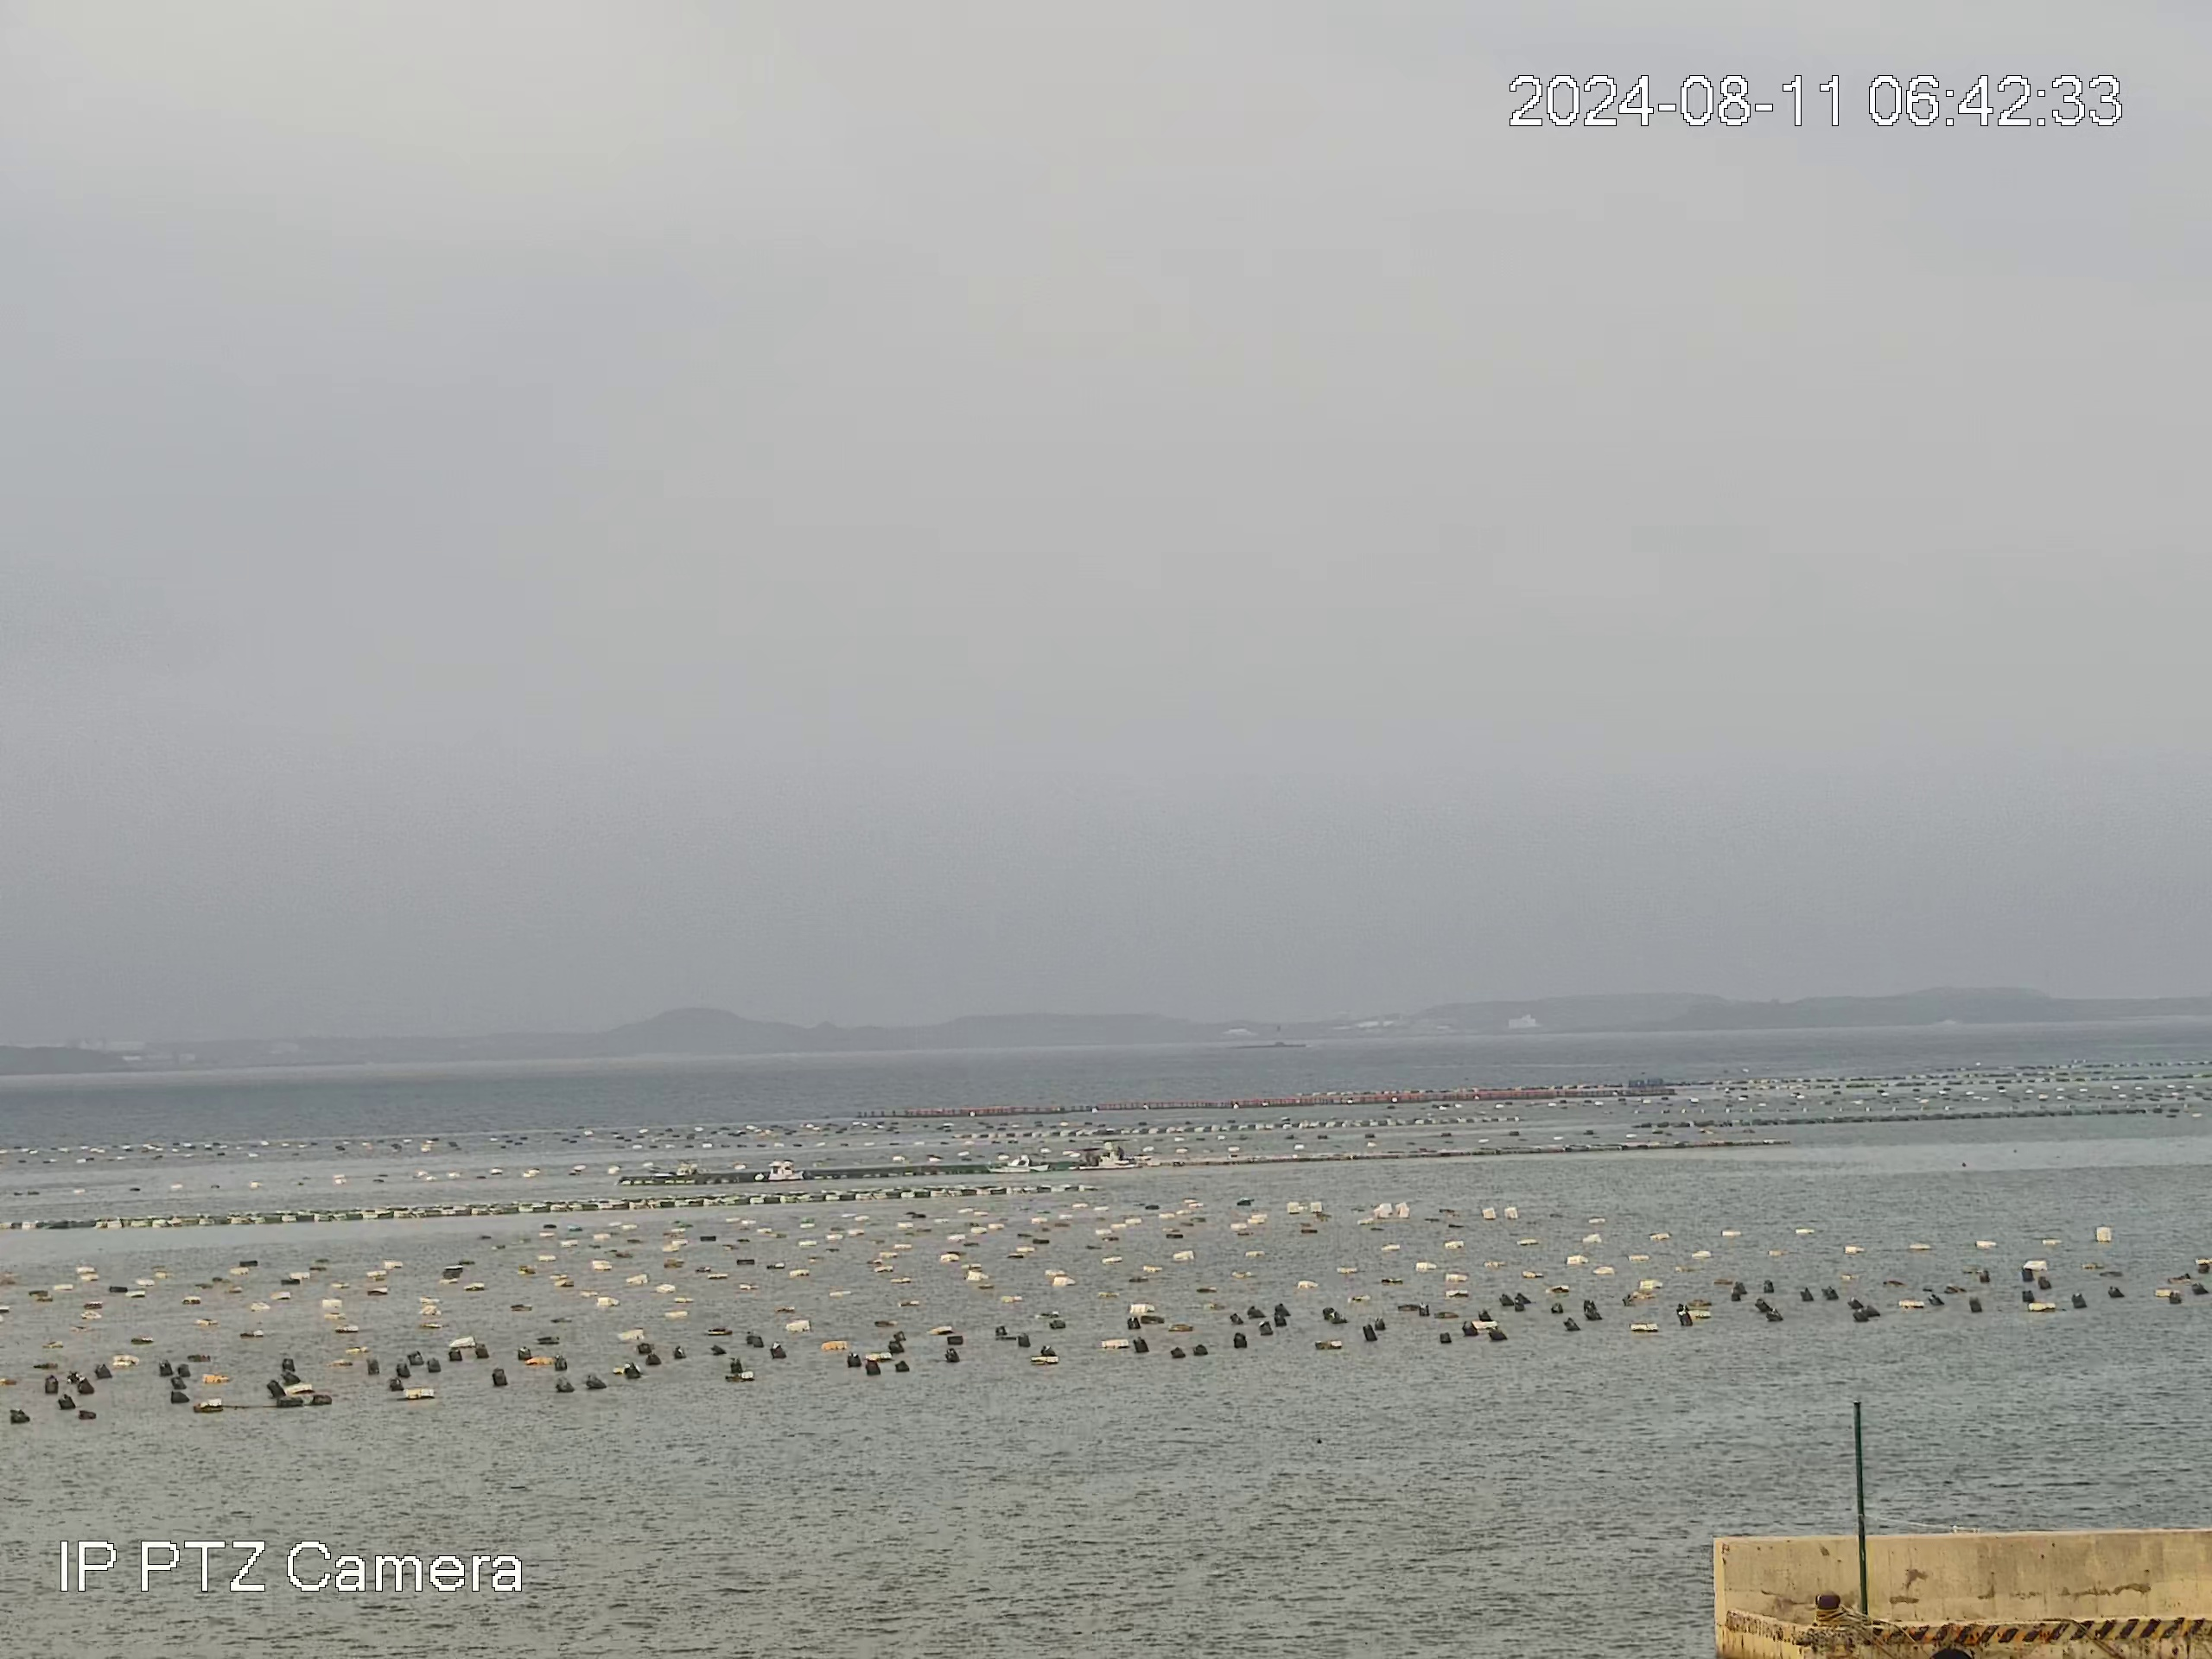boat: (1066, 1143, 1122, 1171), (986, 1154, 1050, 1175), (752, 1159, 805, 1182)
